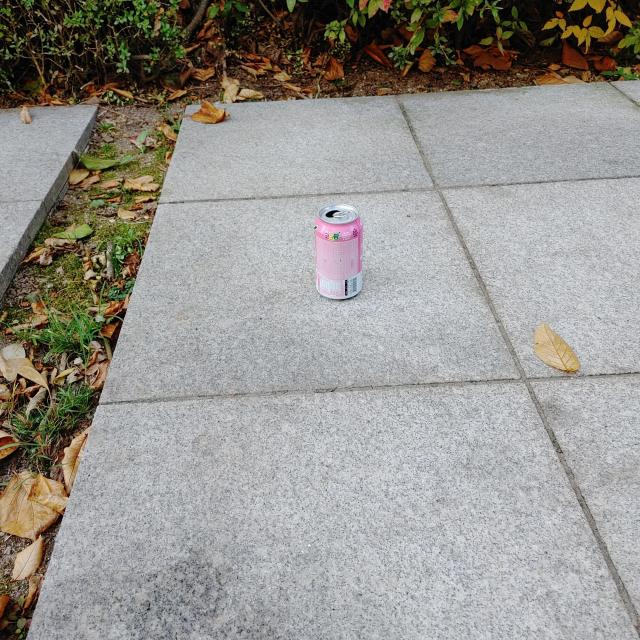can: (314, 203, 363, 300)
